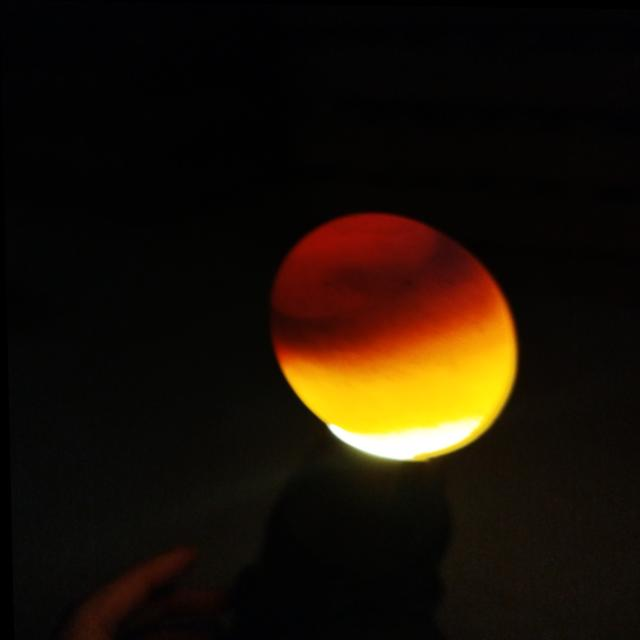Area Infectada: (269, 233, 473, 345)
